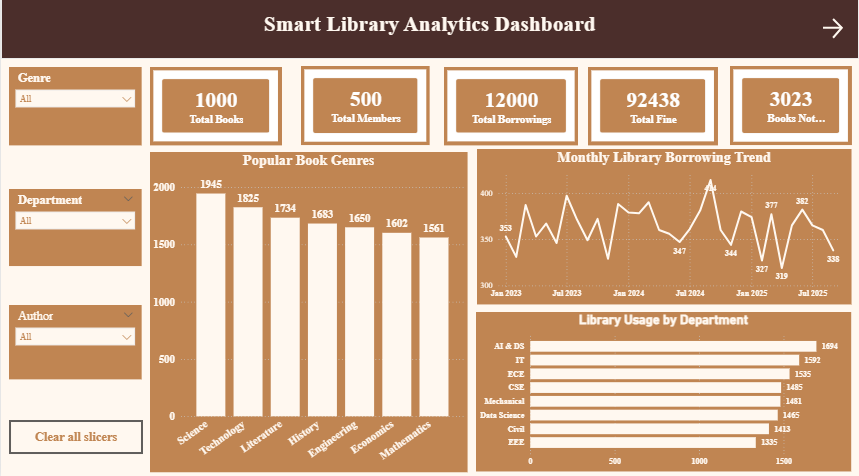

This screenshot's page, from the dashboard's own definition file:
{"tool":"powerbi","page":{"name":"Page 1","canvas":[1280,720],"ordinal":0},"visuals":[{"type":"textbox","box":[0,0,1280,92.4],"z":0},{"type":"cardVisual","title":"book","fields":{"Data":["Books.Total Books"]},"box":[223.1,104.6,196.9,116.9],"z":1000},{"type":"cardVisual","title":"book","fields":{"Data":["Books.Total Members"]},"box":[447.7,103.1,192.3,118.5],"z":2000},{"type":"cardVisual","title":"book","fields":{"Data":["Books.Total Borrowings"]},"box":[661.5,104.6,200,116.9],"z":3000},{"type":"cardVisual","title":"book","fields":{"Data":["Books.Total Fine"]},"box":[875.4,104.6,193.8,116.9],"z":4000},{"type":"cardVisual","title":"book","fields":{"Data":["Books.Books Not Returned"]},"box":[1087.7,103.1,181.5,118.5],"z":5000},{"type":"lineChart","title":"Monthly Library Borrowing Trend","fields":{"Y":["Books.Total Borrowings"],"Category":["Transactions.Issue_Date.Variation.Date Hierarchy.Year","Transactions.Issue_Date.Variation.Date Hierarchy.Month"]},"box":[709.9,227.5,558.7,231.8],"z":6000},{"type":"clusteredColumnChart","title":"Popular Book Genres","fields":{"Category":["Books.Genre"],"Y":["Books.Total Borrowings"]},"box":[223.1,230.8,473.8,478.5],"z":7000},{"type":"clusteredBarChart","title":"Library Usage by Department","fields":{"Category":["Members.Department"],"Y":["Books.Total Borrowings"]},"box":[709.2,470.8,560,238.5],"z":8000},{"type":"slicer","fields":{"Values":["Books.Genre"]},"box":[12.3,104.6,198.5,116.9],"z":9000},{"type":"slicer","fields":{"Values":["Members.Department"]},"box":[12.3,286.2,198.5,115.4],"z":10000},{"type":"slicer","fields":{"Values":["Books.Author"]},"box":[12.3,460,198.5,110.8],"z":11000},{"type":"actionButton","box":[12.3,630.8,200,50.8],"z":12000},{"type":"actionButton","box":[1221.5,26.2,47.7,40],"z":13000}]}

Visuals, with their boxes in screenshot pixels (x1, y1, x2, y2), scaled from the page's 1280x720 canvas onto the 859x476 screenshot:
textbox: {"left": 0, "top": 0, "right": 858, "bottom": 61}
"book" cardVisual: {"left": 150, "top": 69, "right": 282, "bottom": 146}
"book" cardVisual: {"left": 300, "top": 68, "right": 430, "bottom": 147}
"book" cardVisual: {"left": 444, "top": 69, "right": 578, "bottom": 146}
"book" cardVisual: {"left": 587, "top": 69, "right": 718, "bottom": 146}
"book" cardVisual: {"left": 730, "top": 68, "right": 852, "bottom": 147}
"Monthly Library Borrowing Trend" lineChart: {"left": 476, "top": 150, "right": 851, "bottom": 304}
"Popular Book Genres" clusteredColumnChart: {"left": 150, "top": 153, "right": 468, "bottom": 469}
"Library Usage by Department" clusteredBarChart: {"left": 476, "top": 311, "right": 852, "bottom": 469}
slicer - Books.Genre: {"left": 8, "top": 69, "right": 141, "bottom": 146}
slicer - Members.Department: {"left": 8, "top": 189, "right": 141, "bottom": 266}
slicer - Books.Author: {"left": 8, "top": 304, "right": 141, "bottom": 377}
actionButton: {"left": 8, "top": 417, "right": 142, "bottom": 451}
actionButton: {"left": 820, "top": 17, "right": 852, "bottom": 44}
